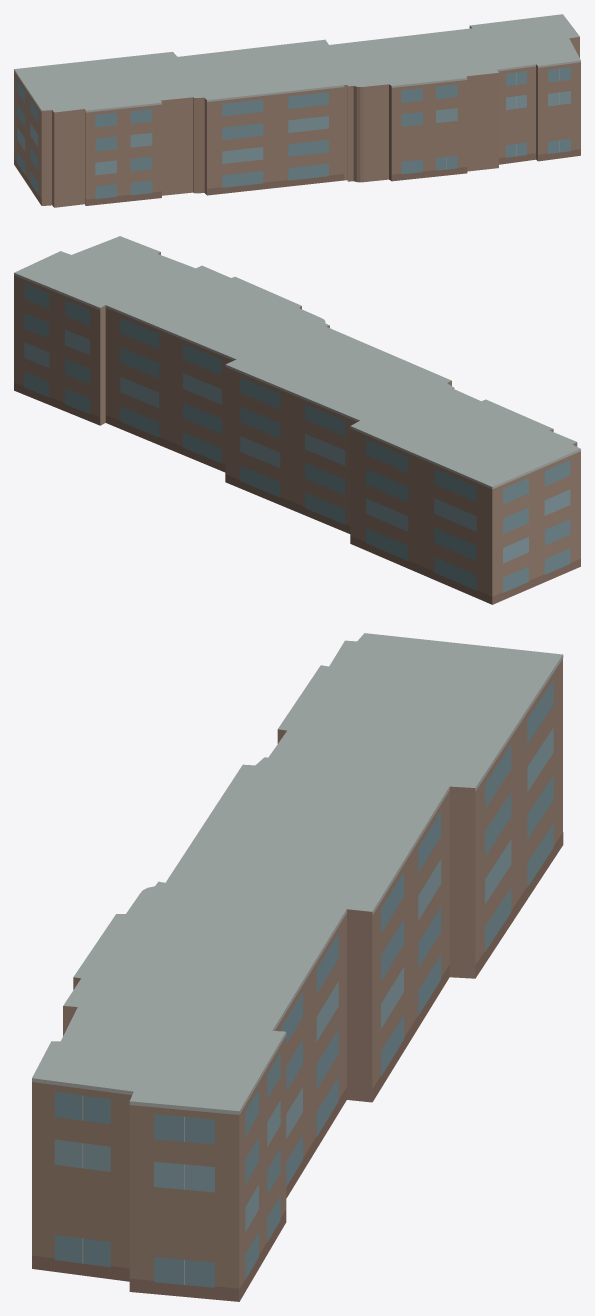
The model's file is survey-upis-32468880.glb.
The picture shows the model from 3 angles, top to bottom: view 1: azimuth 30°, elevation 25°; view 2: azimuth 150°, elevation 25°; view 3: azimuth 270°, elevation 25°; orthographic projection. The views are drawn at different scales.
Parts seen in each view (by area): view 1: survey-upis-32468880.tmp; view 2: survey-upis-32468880.tmp; view 3: survey-upis-32468880.tmp.
Part boxes in pixels (left/top/right/bottom): survey-upis-32468880.tmp: left=14, top=14, right=580, bottom=207; survey-upis-32468880.tmp: left=14, top=236, right=580, bottom=604; survey-upis-32468880.tmp: left=32, top=633, right=563, bottom=1301.
Size of the model in its own units: 65.63 by 12.2 by 30.82.
